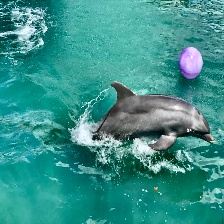dolphin: (179, 47, 203, 80)
